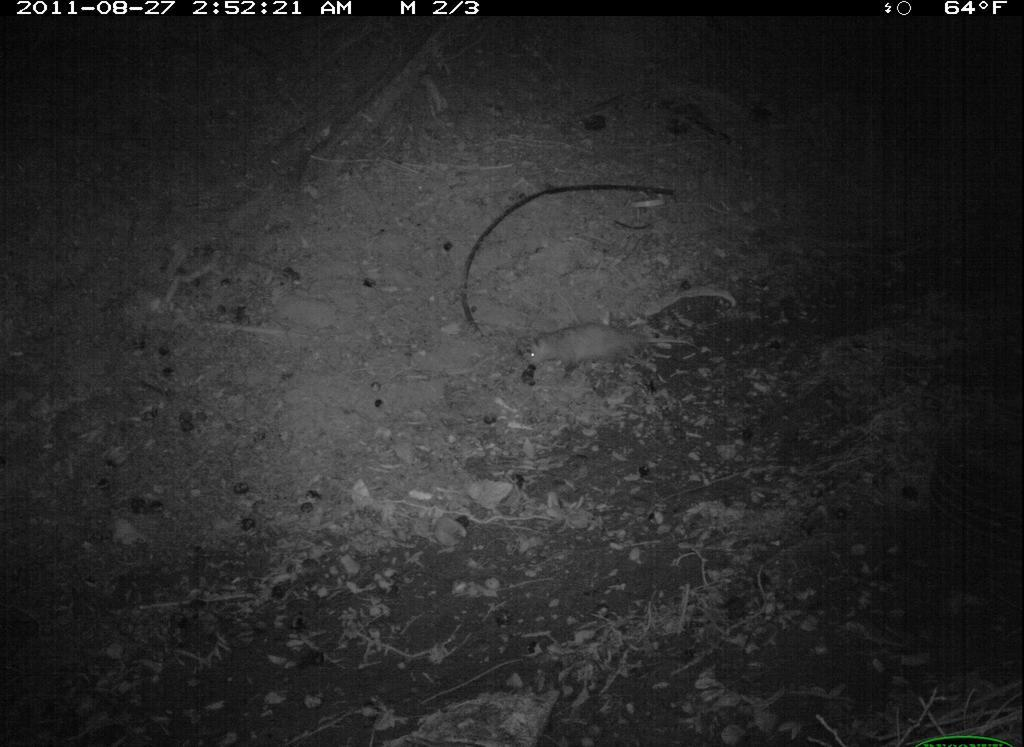opossum: (521, 307, 721, 390)
